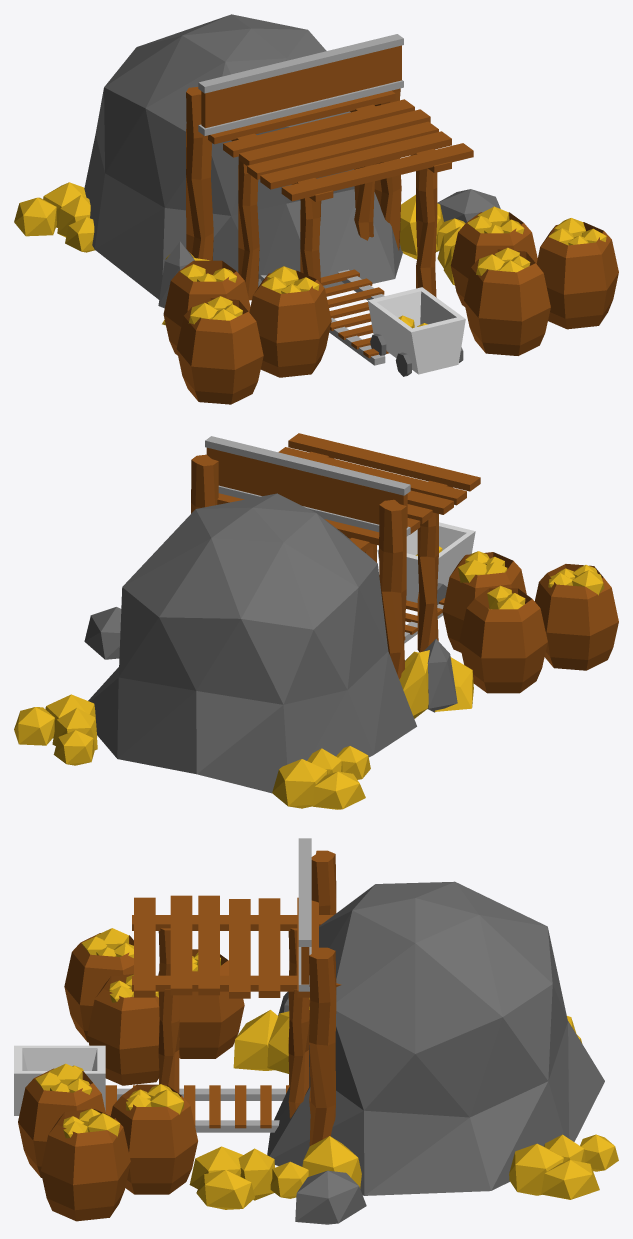
The model's file is Mina_Nv3.glb.
3 renders of one model, top to bottom at view 1: azimuth 30°, elevation 25°; view 2: azimuth 150°, elevation 25°; view 3: azimuth 270°, elevation 25°, orthographic. The views are drawn at different scales.
Parts seen in each view (by area): view 1: Icosphere.006; view 2: Icosphere.006; view 3: Icosphere.006.
Part boxes in pixels (x1,y1,x2,y2): Icosphere.006: (14, 14, 618, 404); Icosphere.006: (14, 433, 618, 809); Icosphere.006: (14, 838, 618, 1224).
Size of the model in its own units: 2.19 by 1.2 by 2.62.
